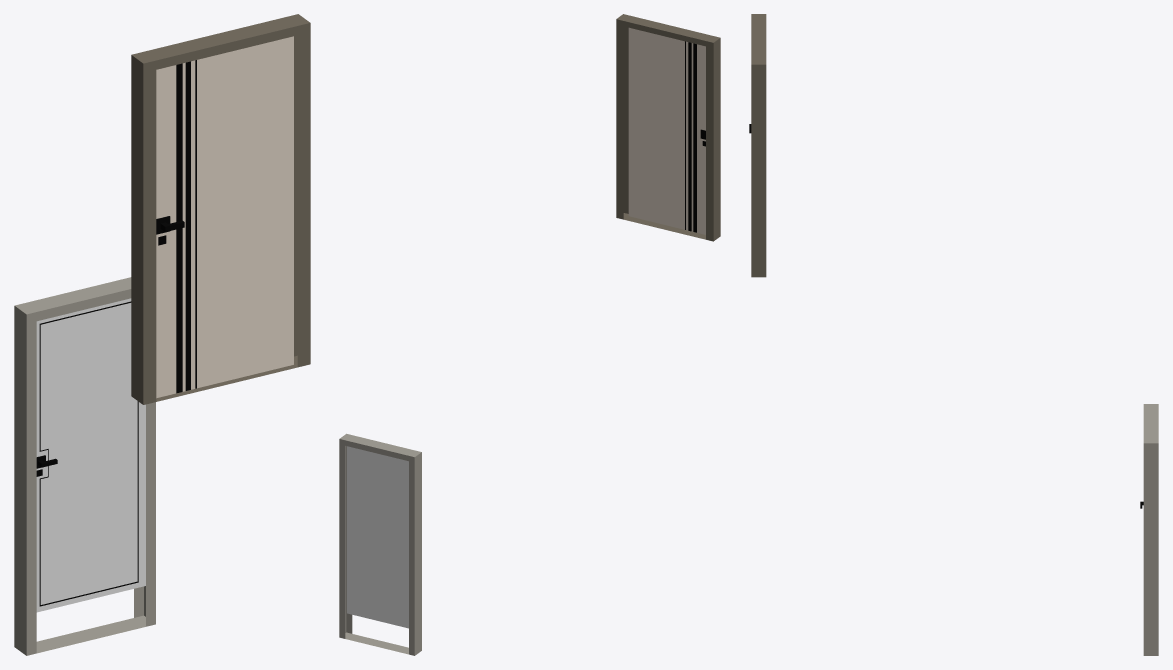
The model's file is FakeDoors.glb.
The picture shows the model from 3 angles, left to right: view 1: azimuth 30°, elevation 25°; view 2: azimuth 150°, elevation 25°; view 3: azimuth 270°, elevation 25°; orthographic projection. The views are drawn at different scales.
Parts seen in each view (by area): view 1: Cube.118, bathroomDoor.002, Cube.117, Cube.008; view 2: Cube.118, bathroomDoor.002, Cube.117, Cube.008; view 3: Cube.117, Cube.008.
Part boxes in pixels (<box>): Cube.118: <box>156,36,293,398</box>; bathroomDoor.002: <box>36,298,145,612</box>; Cube.117: <box>131,14,310,404</box>; Cube.008: <box>14,277,155,655</box>; Cube.118: <box>628,27,705,234</box>; bathroomDoor.002: <box>347,446,408,628</box>; Cube.117: <box>616,14,720,241</box>; Cube.008: <box>339,433,421,655</box>; Cube.117: <box>751,14,766,277</box>; Cube.008: <box>1143,404,1158,655</box>.
Size of the model in its own units: 2.39 by 6.07 by 4.15.
1 material, 1 textured.
